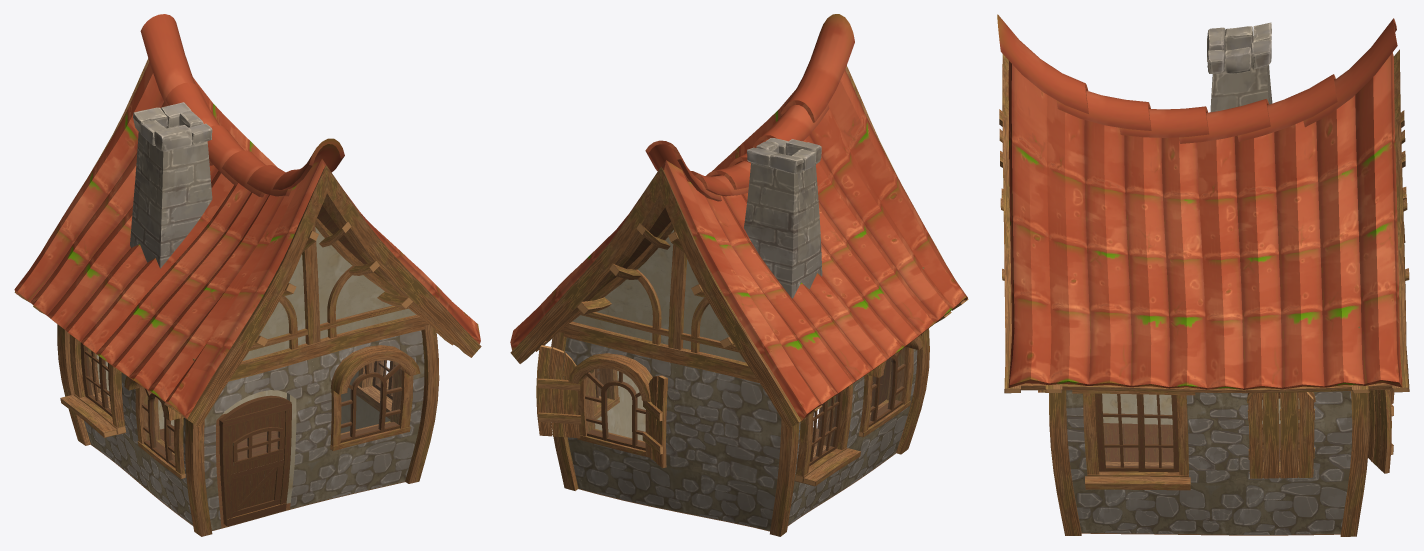
The picture shows the model from 3 angles, left to right: view 1: azimuth 30°, elevation 25°; view 2: azimuth 150°, elevation 25°; view 3: azimuth 270°, elevation 25°; orthographic projection. The views are drawn at different scales.
Visible parts, largest first — view 1: H11; view 2: H11; view 3: H11.
Boxes of the visible parts, box(x1,y1,x2,y2) form: H11: box(14, 14, 481, 536); H11: box(510, 14, 968, 536); H11: box(997, 14, 1409, 536).
Size of the model in its own units: 6.02 by 7.31 by 5.99.
33 materials, 29 textured.
